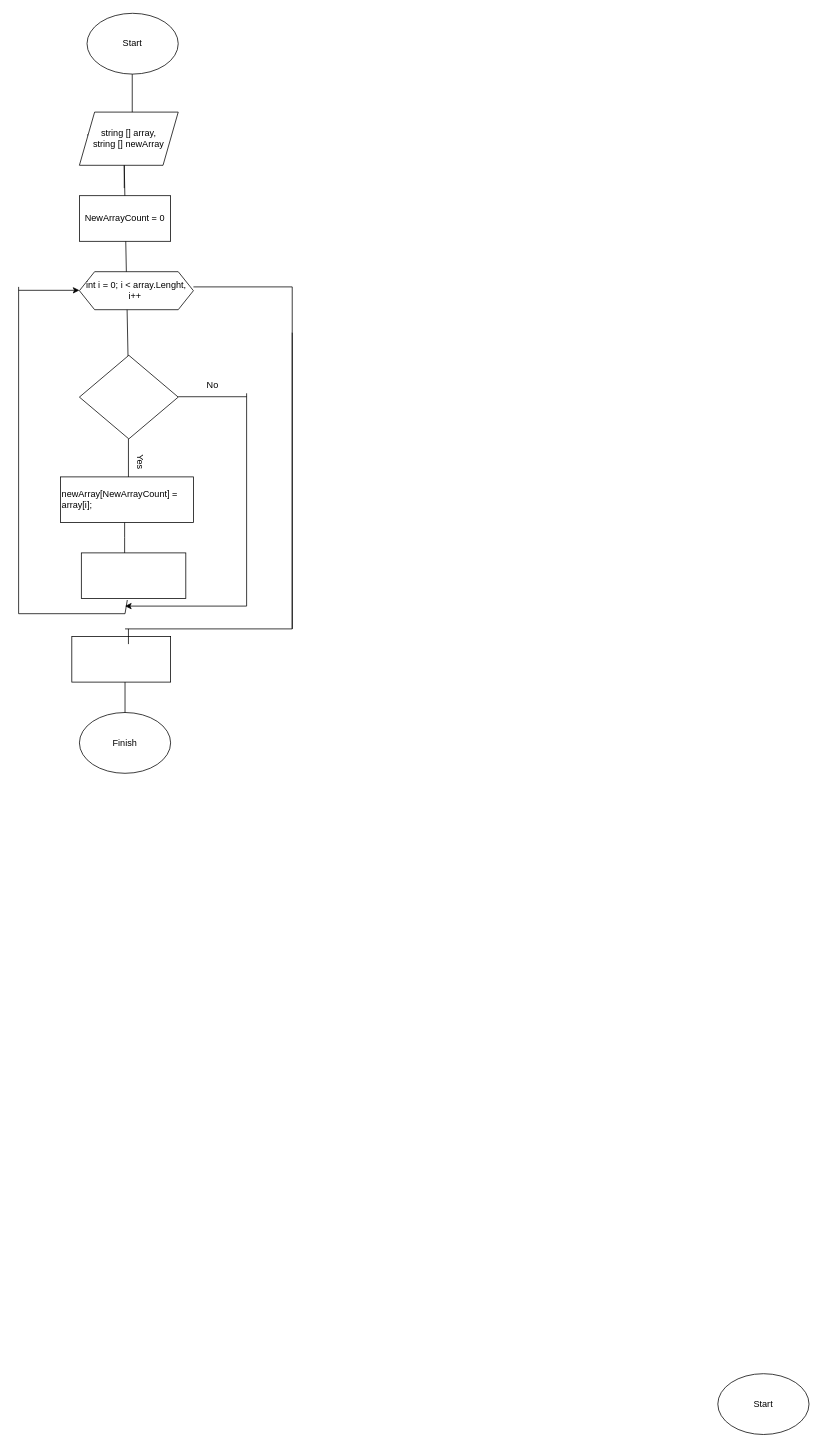
Some shapes in this 822 by 1448 pixel diagram are drawn without their labels. Here are the shapes that lost their labels. From the top down, the box of each, then its label:
(79, 355, 178, 439): array [I]. Lenght <=3 ,
(81, 552, 186, 598): NewArrayCount++;
(71, 636, 171, 682): return NewArrayCount
